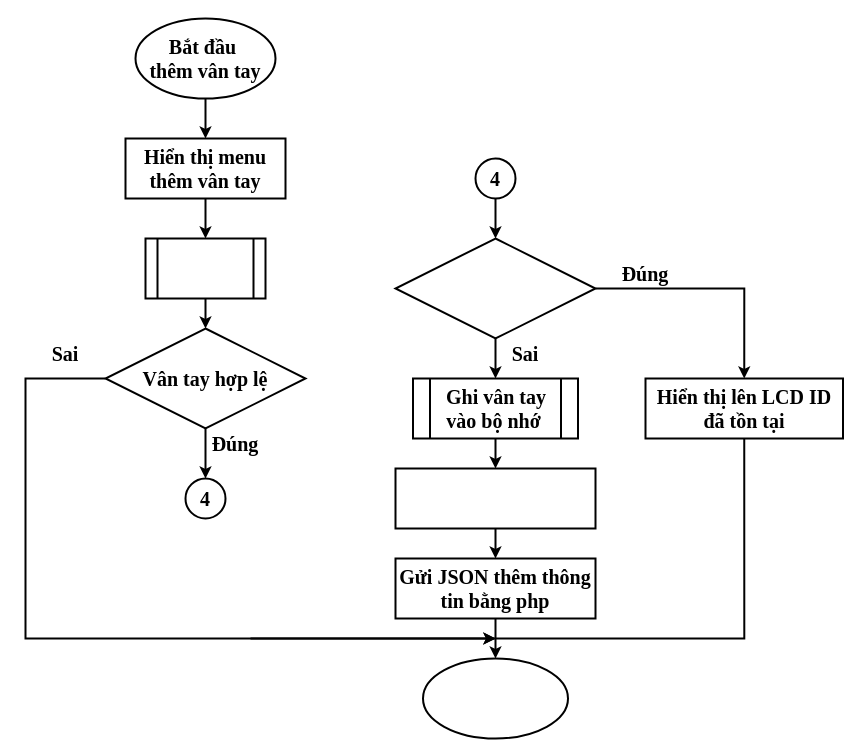
Some shapes in this 861 by 756 pixel diagram are drawn without their labels. Here are the shapes that lost their labels. From the top down, the centre of each, then its label:
At point 205,268: "Lấy vân tay".
At point 495,288: "Vân tay có trong bộ nhớ".
At point 495,498: "Hiển thị thông tin vân tay vừa được thêm".
At point 495,698: "Kết thúc thêm vân tay".
